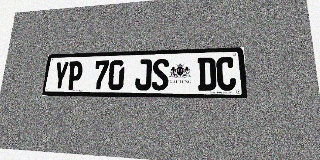0: (107, 60, 125, 90)
7: (92, 60, 109, 90)
C: (216, 57, 236, 91)
D: (197, 57, 216, 91)
J: (135, 59, 152, 90)
P: (66, 61, 83, 90)
S: (152, 59, 169, 90)
Y: (52, 61, 69, 90)
